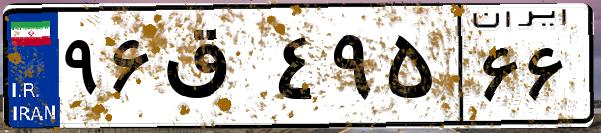4: (270, 28, 330, 110)
5: (385, 28, 445, 110)
6: (475, 38, 525, 113), (525, 38, 570, 115), (110, 28, 158, 98)
9: (330, 28, 385, 110), (57, 26, 110, 100)
ق: (158, 20, 270, 120)
